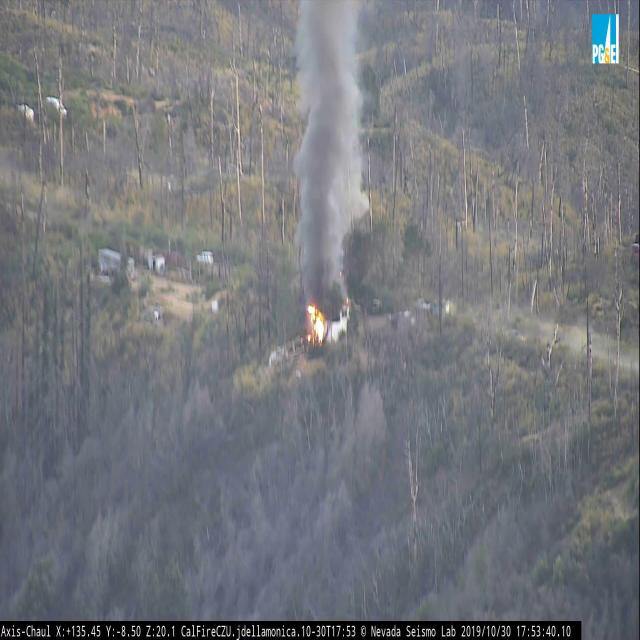smoke: (292, 0, 368, 320)
